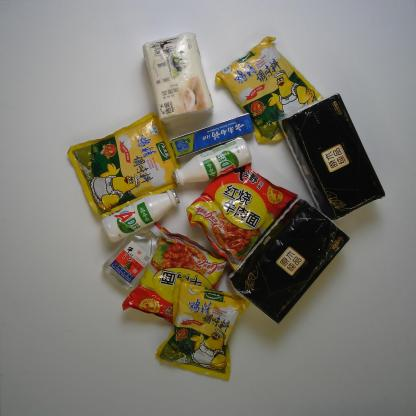Alcohol: (100, 221, 168, 294)
Instant Noodles: (184, 158, 301, 274), (120, 225, 232, 328)
Milk: (100, 186, 183, 245), (171, 135, 254, 189)
Personal Hygiene: (168, 112, 258, 162)
Seasoner: (63, 108, 184, 221), (212, 32, 328, 148), (153, 275, 254, 384)
Tissue: (223, 194, 354, 327), (275, 90, 388, 225), (138, 28, 218, 130)
